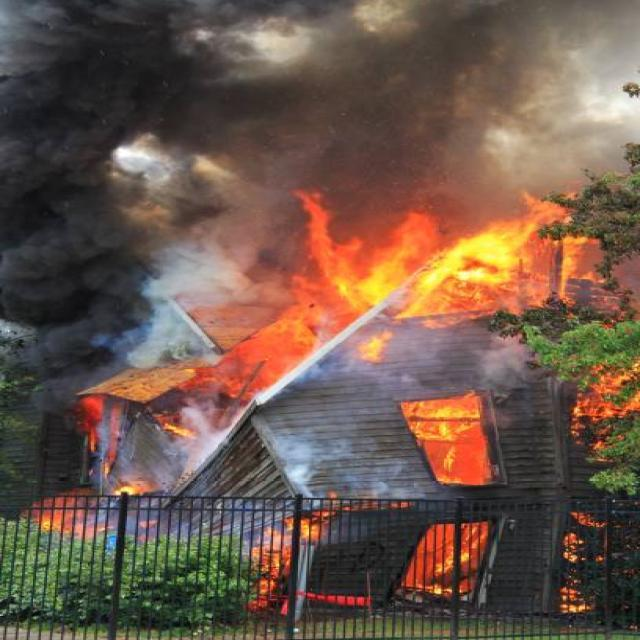Fire: (304, 208, 600, 376), (61, 332, 300, 482), (408, 405, 500, 488)
Smoke: (0, 0, 519, 379)
